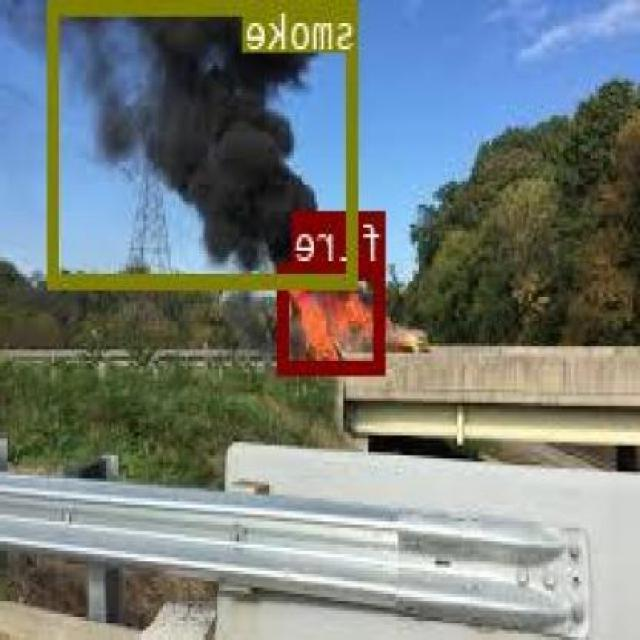Fire: (280, 260, 388, 372)
Smoke: (52, 0, 358, 283)
